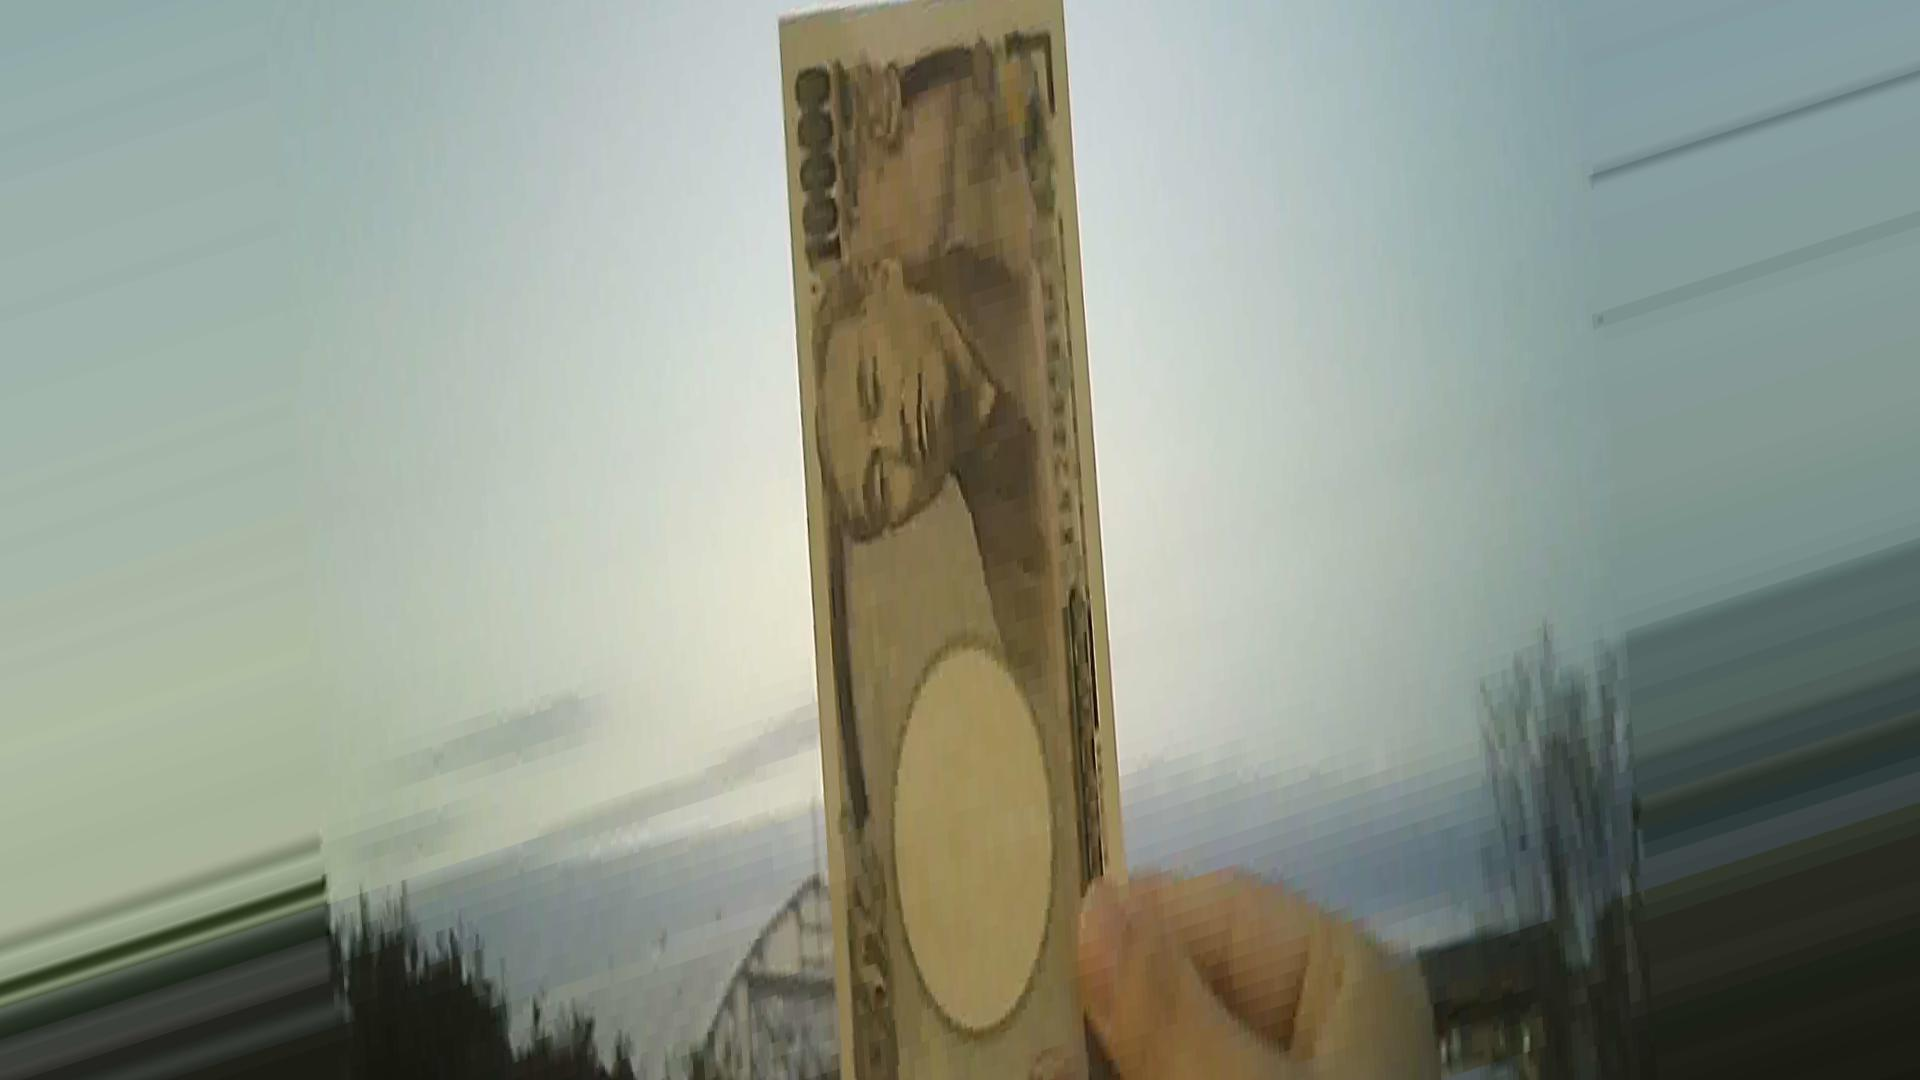10,000 Yen: (735, 36, 1171, 938)
